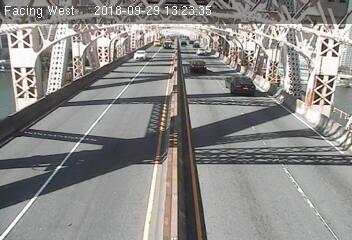car: (224, 74, 259, 96), (186, 57, 211, 77), (133, 47, 149, 61), (197, 48, 208, 56), (163, 41, 173, 49), (152, 37, 161, 45)
